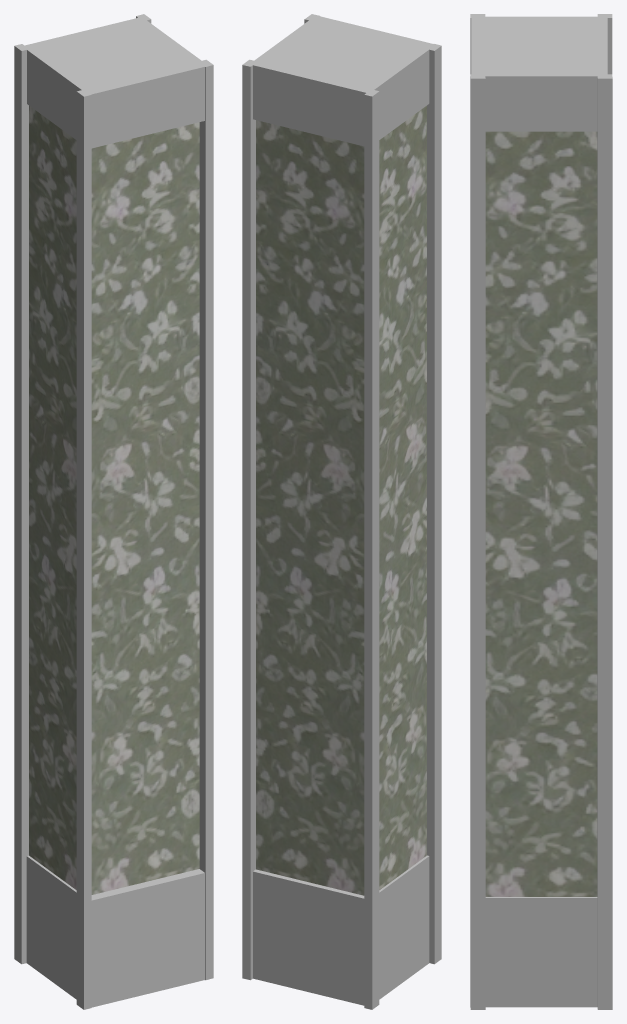
File: tableparti04ca.fbx
3 renders of one model, left to right at view 1: azimuth 30°, elevation 25°; view 2: azimuth 150°, elevation 25°; view 3: azimuth 270°, elevation 25°, orthographic.
Parts seen in each view (by area): view 1: tableparti04ca; view 2: tableparti04ca; view 3: tableparti04ca.
Part boxes in pixels (x1,y1,x2,y2): tableparti04ca: [14, 14, 213, 1009]; tableparti04ca: [242, 14, 441, 1009]; tableparti04ca: [470, 14, 612, 1009].
Bounding box in the file's own units: 0.5012 × 3.37 × 0.4665.
